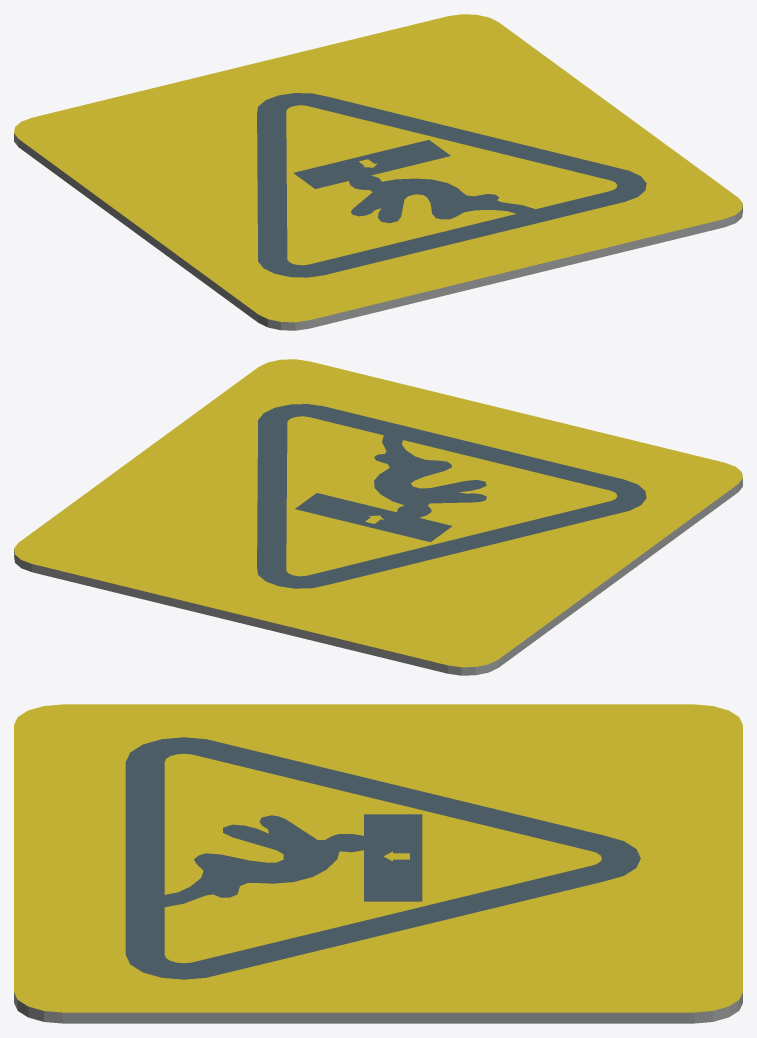
3 views of the same model, one above another, from view 1: azimuth 30°, elevation 25°; view 2: azimuth 150°, elevation 25°; view 3: azimuth 270°, elevation 25° (orthographic). The views are drawn at different scales.
Parts seen in each view (by area): view 1: world; view 2: world; view 3: world.
Part boxes in pixels (x1,y1,x2,y2): world: (14, 14, 742, 330); world: (14, 359, 742, 675); world: (14, 704, 742, 1023).
Size of the model in its own units: 0.006 by 0.0001 by 0.006.
